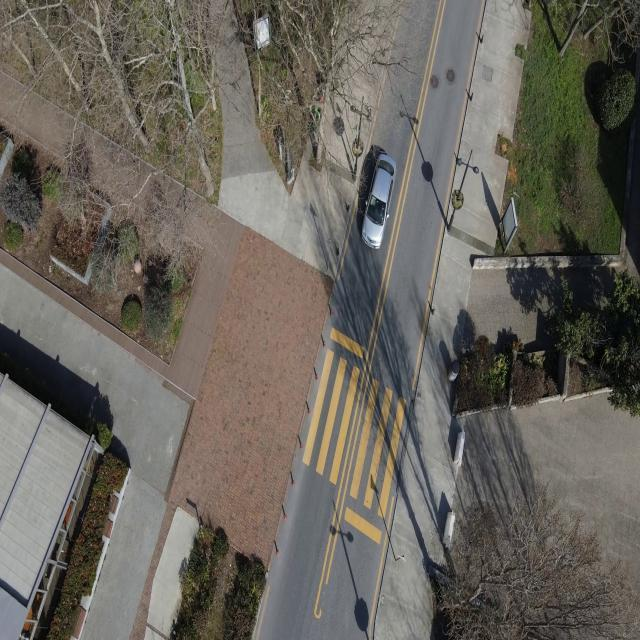vehicle: (361, 151, 397, 248)
